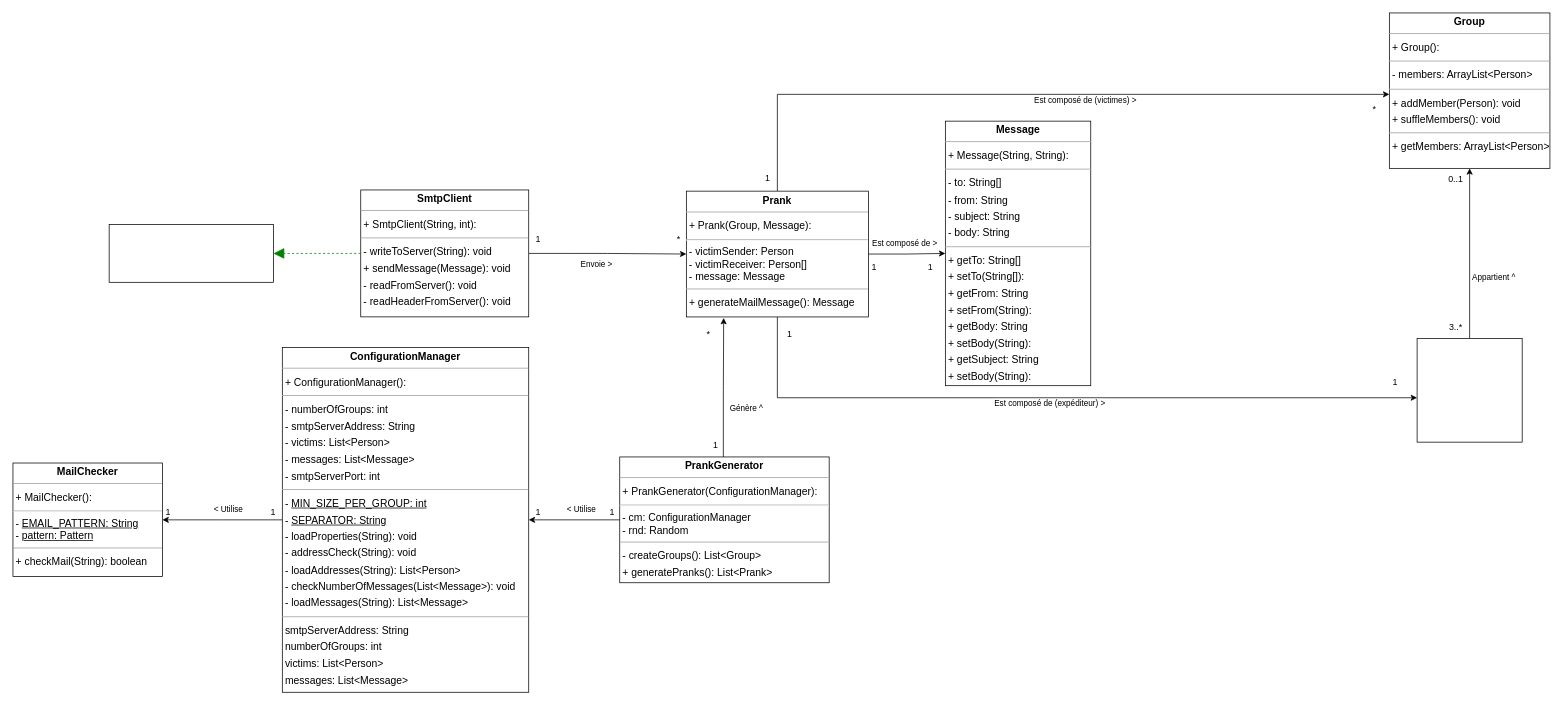
Image size: 1563x715. Some labels were removed from this diagram. The box of each missing label's shape, as (x1, y1, x2, y2) in pixels:
<<interface>> ISmtpClient + sendMessage(Message): void: (108, 224, 273, 282)
Person + Person(String): - mail: String + getAddress: String: (1416, 338, 1522, 442)
